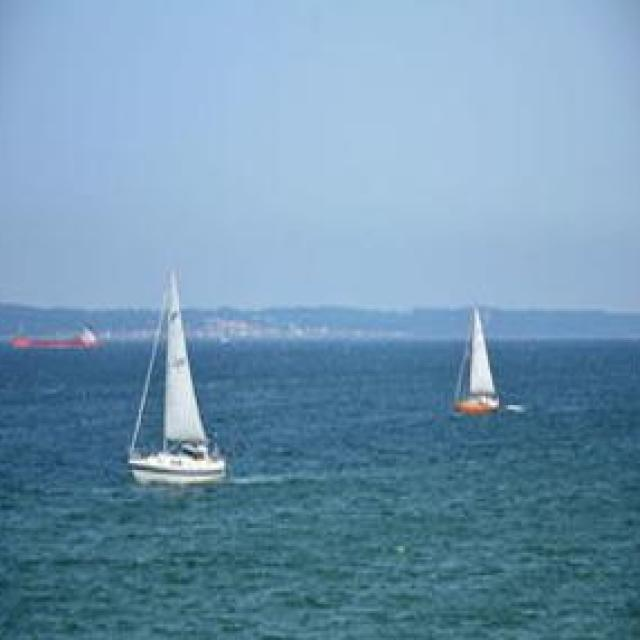cargoship: (0, 316, 112, 352)
sailboat: (124, 254, 230, 490), (447, 300, 506, 418)
